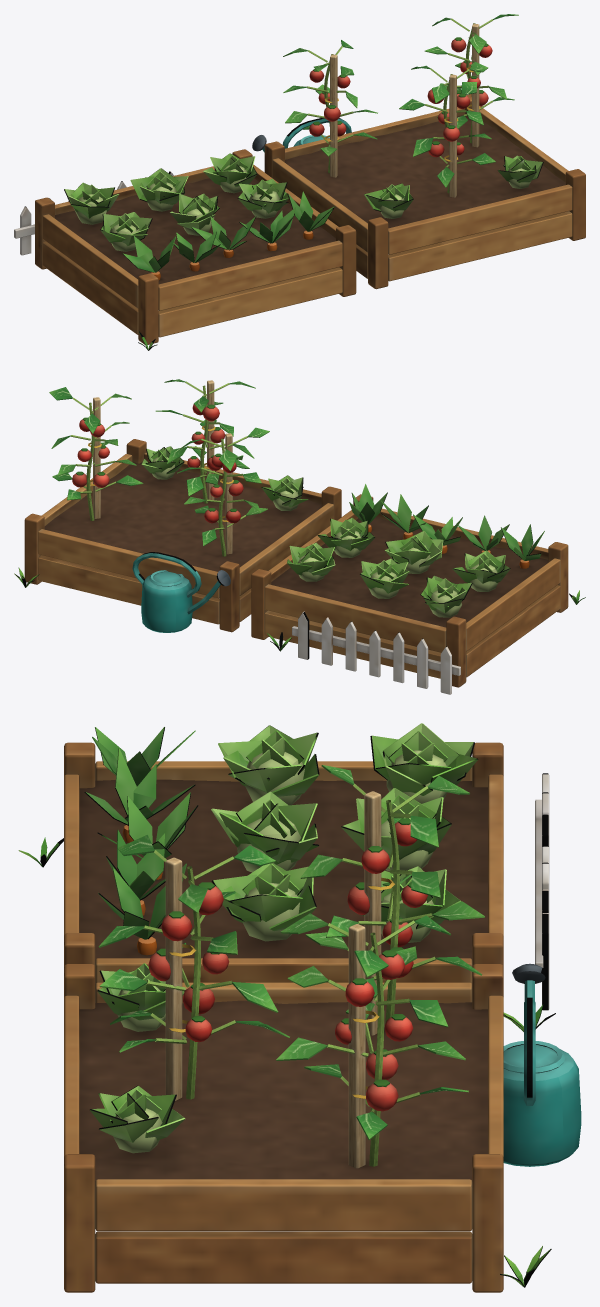
Rendered from veggie-garden.fbx.
3 renders of one model, top to bottom at view 1: azimuth 30°, elevation 25°; view 2: azimuth 150°, elevation 25°; view 3: azimuth 270°, elevation 25°, orthographic. The views are drawn at different scales.
Visible parts, largest first — view 1: Body, Anim Sway.001, Anim Sway, Anim Sway.002; view 2: Body, Anim Sway.002, Anim Sway, Anim Sway.001; view 3: Body, Anim Sway.002, Anim Sway.001, Anim Sway.
Boxes of the visible parts, box(x1,y1,x2,y2) form: Body: box(14, 94, 585, 350); Anim Sway.001: box(399, 62, 495, 197); Anim Sway: box(283, 40, 377, 177); Anim Sway.002: box(424, 14, 518, 147); Body: box(14, 439, 585, 694); Anim Sway.002: box(49, 387, 143, 520); Anim Sway: box(177, 427, 269, 556); Anim Sway.001: box(155, 379, 255, 503); Body: box(18, 723, 581, 1292); Anim Sway.002: box(276, 913, 468, 1168); Anim Sway.001: box(98, 835, 289, 1100); Anim Sway: box(300, 765, 484, 1035).
Size of the model in its own units: 2.01 by 0.7153 by 1.08.
